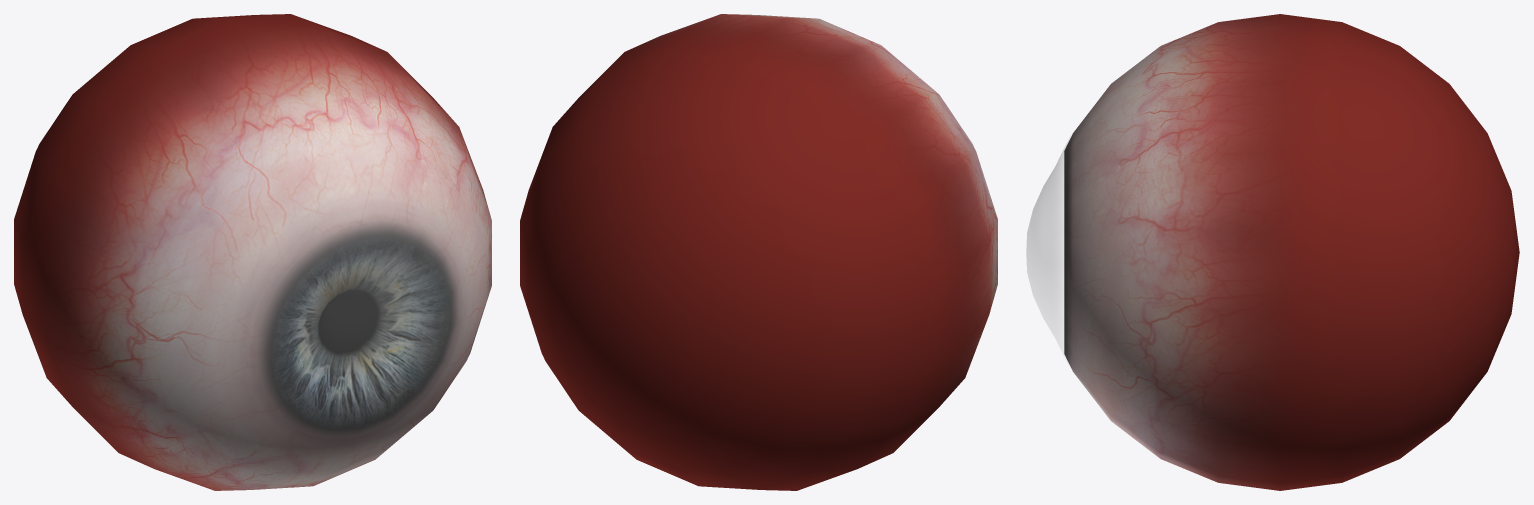
File: Eye.glb
3 renders of one model, left to right at view 1: azimuth 30°, elevation 25°; view 2: azimuth 150°, elevation 25°; view 3: azimuth 270°, elevation 25°, orthographic.
Visible parts, largest first — view 1: Eye_Blue_01; view 2: Eye_Blue_01; view 3: Eye_Blue_01.
Boxes of the visible parts, bbox=[...] form: Eye_Blue_01: bbox=[14, 14, 491, 490]; Eye_Blue_01: bbox=[520, 14, 997, 490]; Eye_Blue_01: bbox=[1026, 14, 1519, 490].
Bounding box in the file's own units: 1.97 × 2 × 2.06.
2 materials, 2 textured.
